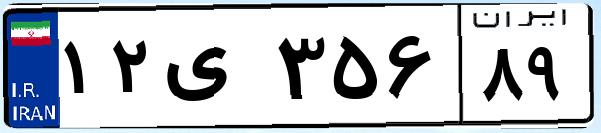1: (57, 26, 110, 100)
2: (110, 28, 158, 98)
3: (270, 28, 330, 110)
5: (330, 28, 385, 110)
6: (385, 28, 445, 110)
8: (475, 38, 525, 113)
9: (525, 38, 570, 115)
ی: (158, 20, 270, 120)
